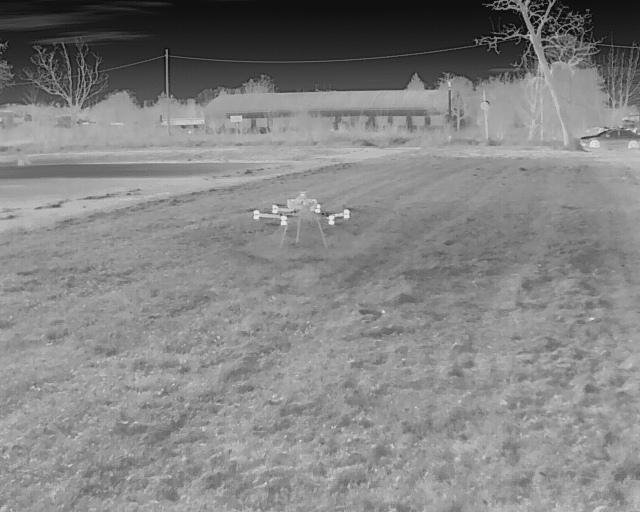drone: (237, 191, 352, 260)
